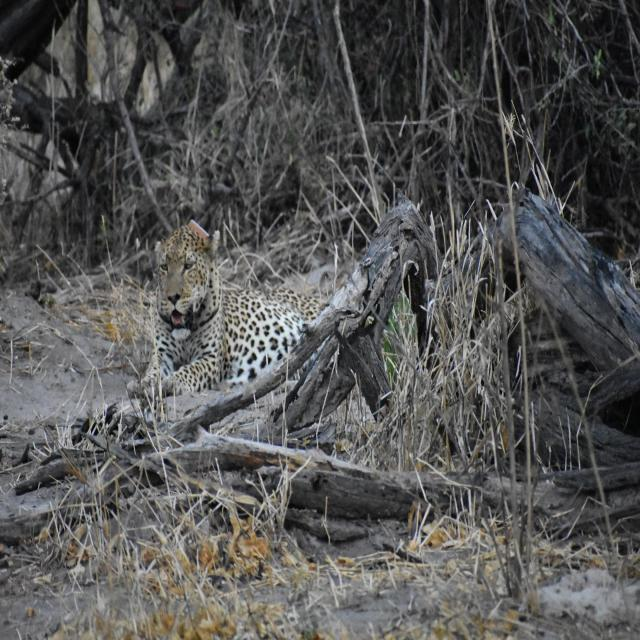Leopard: (124, 221, 340, 400)
